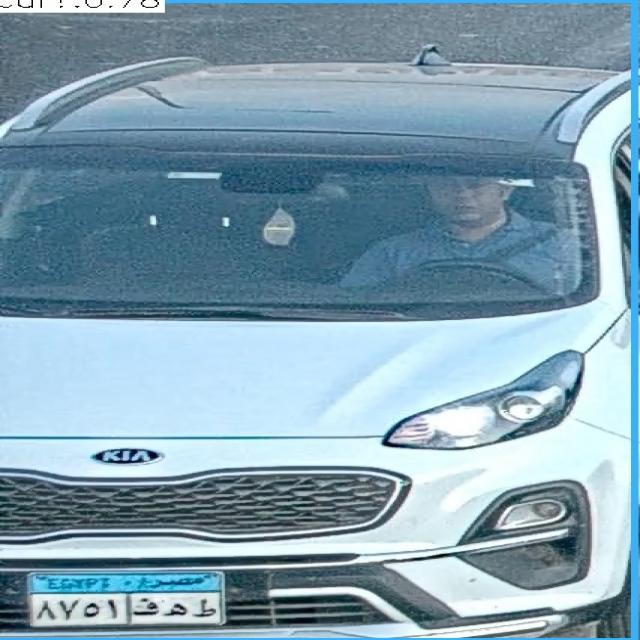windshield: (3, 144, 601, 311)
